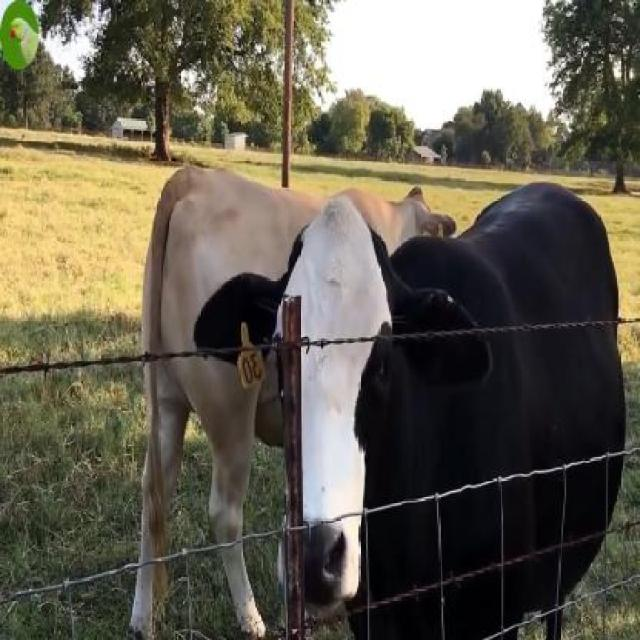Cow: (192, 183, 628, 639)
